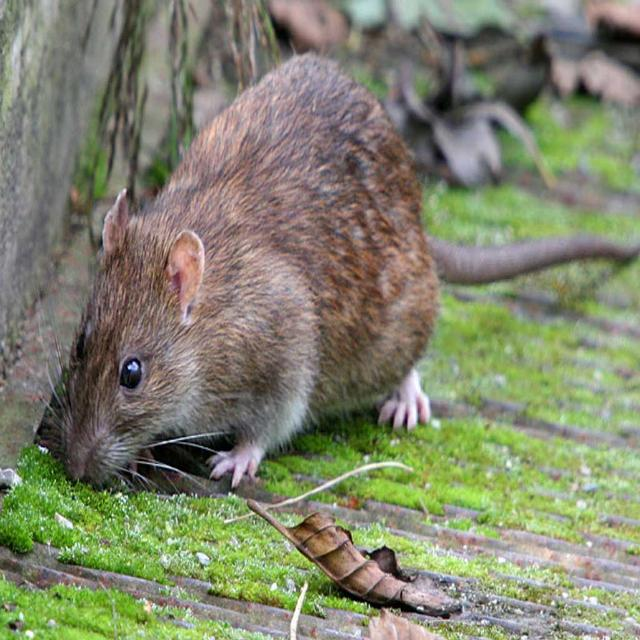rat: (35, 39, 525, 497)
